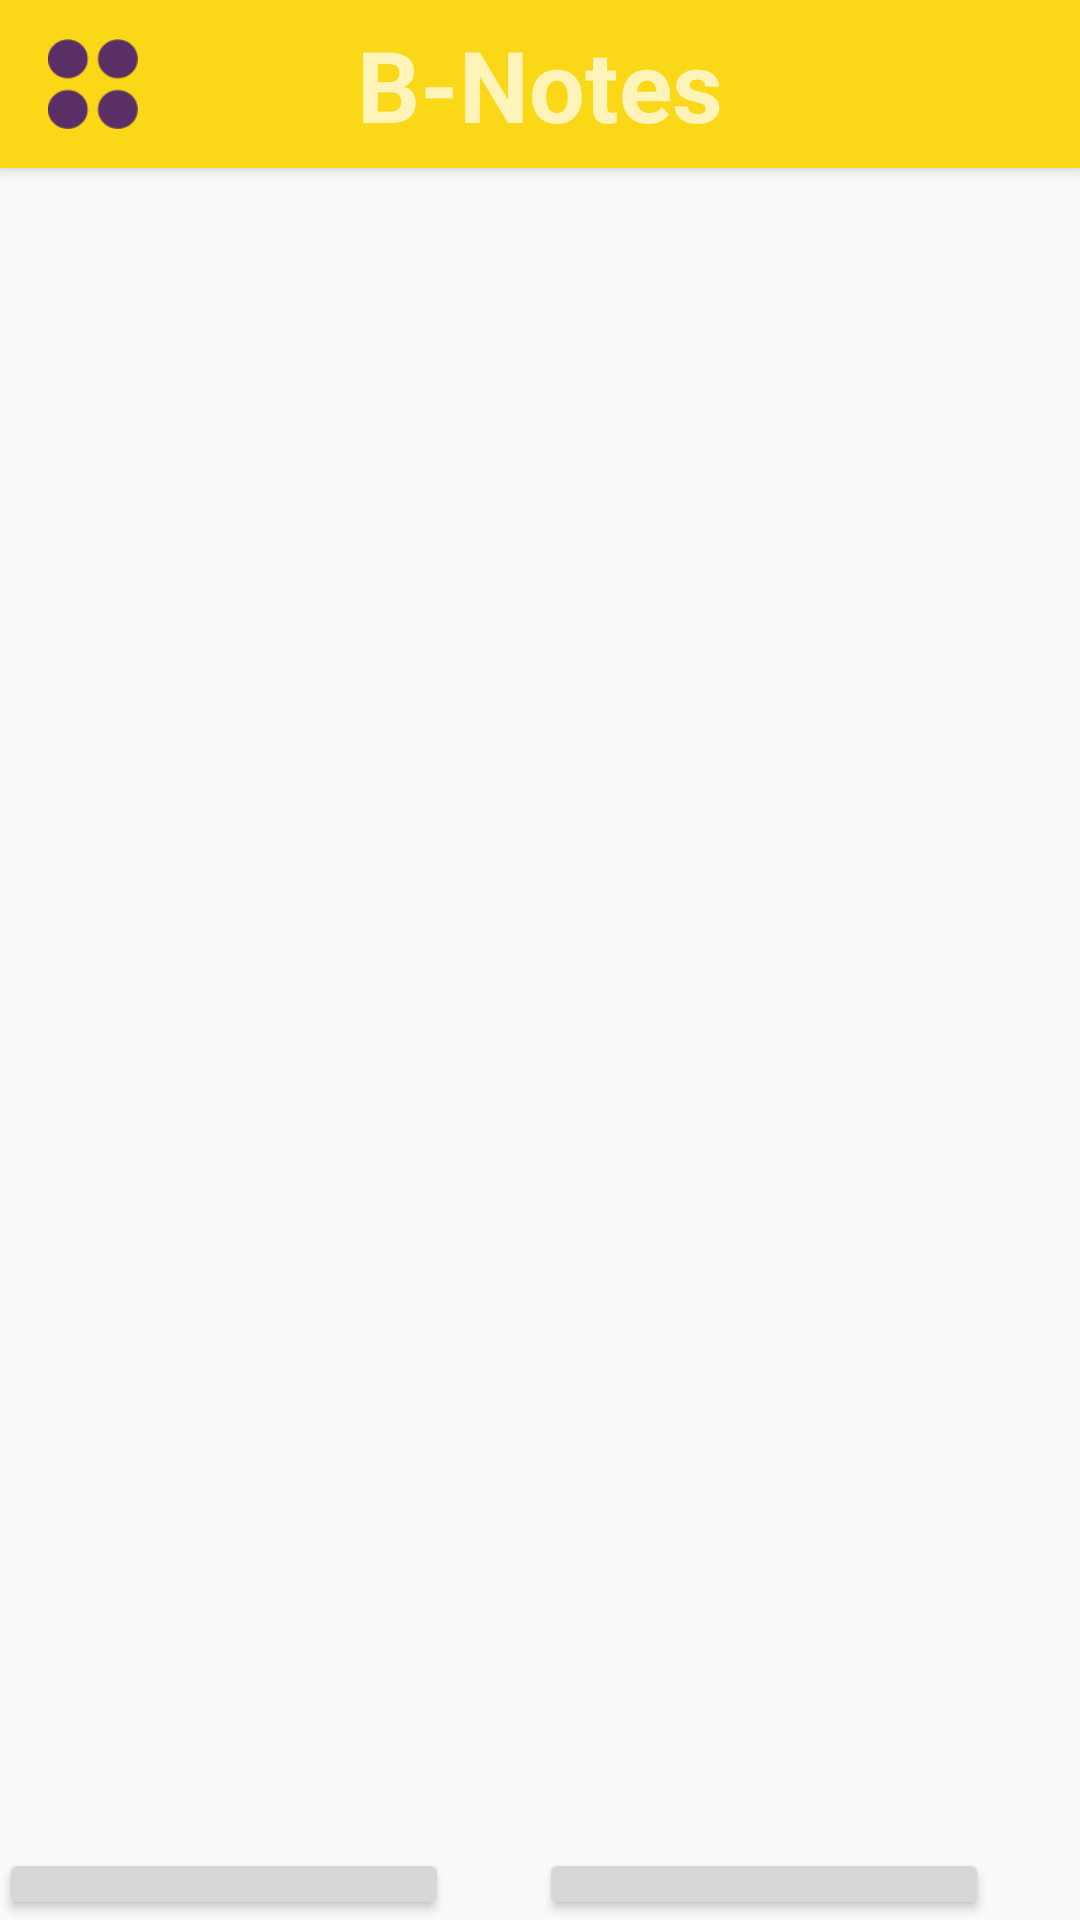

Where icons sit on this 1080w x 1920h app screen, as (x1, y1, x2, y2):
dots: (48, 39, 138, 129)
